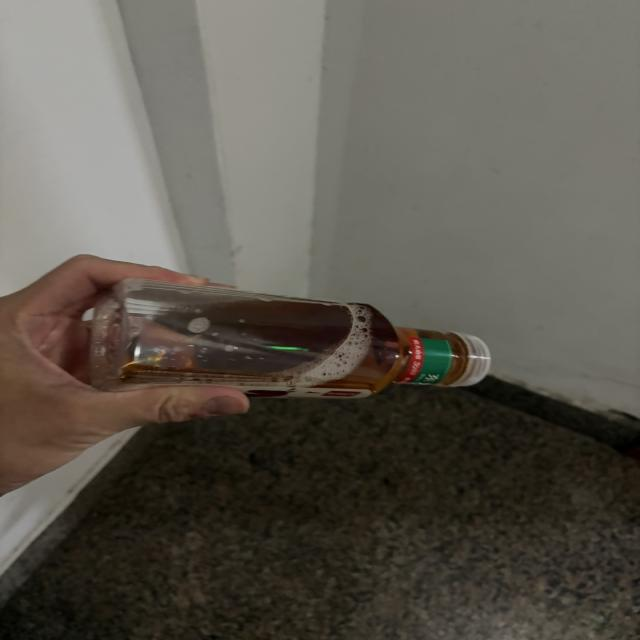medium: (91, 278, 490, 398)
